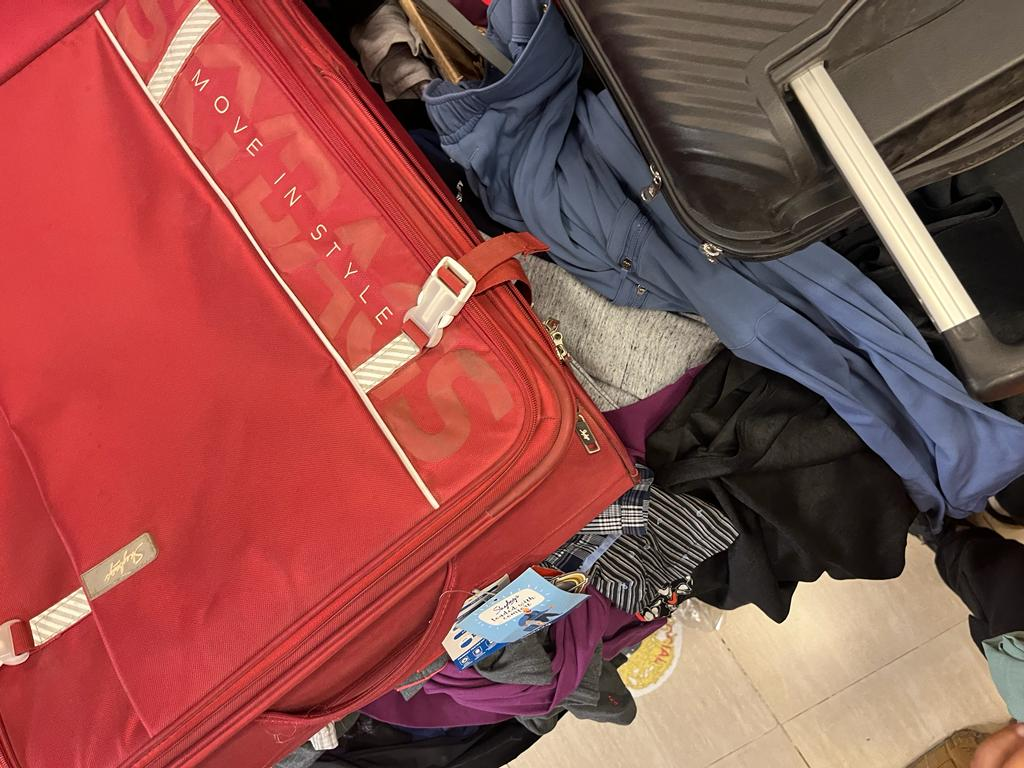Bag: (0, 1, 651, 766), (543, 0, 1024, 407)
Handle: (782, 48, 1024, 407)
